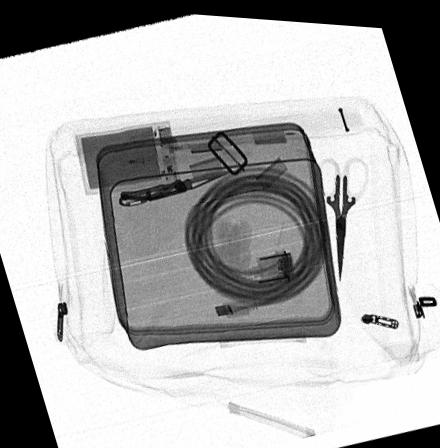Knife: (117, 163, 231, 203)
Powerbank: (72, 117, 179, 194)
Scissors: (311, 150, 370, 279)
